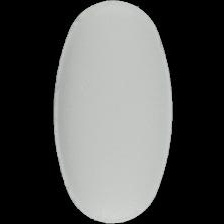53746-272: (0, 0, 224, 224)
